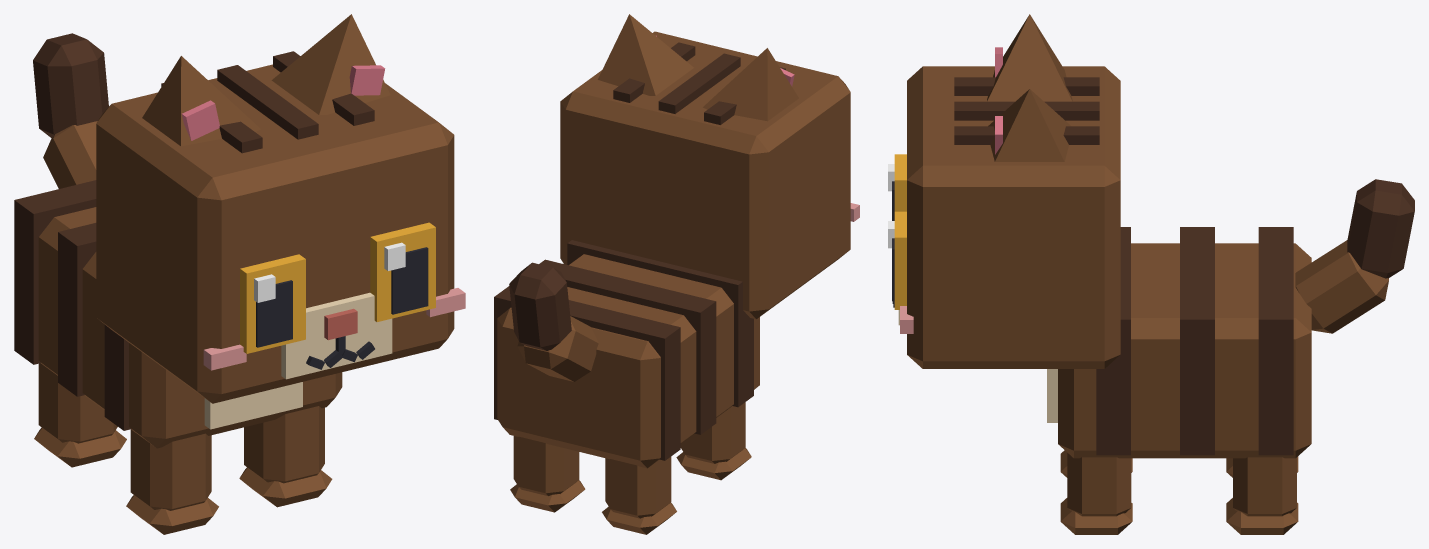
File: CatCafe_Cat_Brownie.glb
The picture shows the model from 3 angles, left to right: view 1: azimuth 30°, elevation 25°; view 2: azimuth 150°, elevation 25°; view 3: azimuth 270°, elevation 25°; orthographic projection. The views are drawn at different scales.
Parts seen in each view (by area): view 1: CatCafe_Cat_Brownie_Head, CatCafe_Cat_Brownie_Body, CatCafe_Cat_Brownie_Tail, CatCafe_Cat_Brownie_LegF2, CatCafe_Cat_Brownie_LegF1, CatCafe_Cat_Brownie_EarL, CatCafe_Cat_Brownie_Eye2, CatCafe_Cat_Brownie_Eye1, CatCafe_Cat_Brownie_LegB2, CatCafe_Cat_Brownie_EarR; view 2: CatCafe_Cat_Brownie_Head, CatCafe_Cat_Brownie_Body, CatCafe_Cat_Brownie_Tail, CatCafe_Cat_Brownie_LegB2, CatCafe_Cat_Brownie_LegB1, CatCafe_Cat_Brownie_EarL, CatCafe_Cat_Brownie_EarR, CatCafe_Cat_Brownie_LegF2; view 3: CatCafe_Cat_Brownie_Head, CatCafe_Cat_Brownie_Body, CatCafe_Cat_Brownie_Tail, CatCafe_Cat_Brownie_LegF1, CatCafe_Cat_Brownie_LegB1, CatCafe_Cat_Brownie_EarR, CatCafe_Cat_Brownie_EarL, CatCafe_Cat_Brownie_Eye1, CatCafe_Cat_Brownie_Eye2.
Part boxes in pixels (x1=…): CatCafe_Cat_Brownie_Head: x1=96, y1=51, x2=465, y2=403; CatCafe_Cat_Brownie_Body: x1=14, y1=180, x2=342, y2=448; CatCafe_Cat_Brownie_Tail: x1=33, y1=33, x2=108, y2=188; CatCafe_Cat_Brownie_LegF2: x1=126, y1=429, x2=218, y2=534; CatCafe_Cat_Brownie_LegF1: x1=239, y1=406, x2=332, y2=507; CatCafe_Cat_Brownie_EarL: x1=271, y1=14, x2=390, y2=115; CatCafe_Cat_Brownie_Eye2: x1=240, y1=254, x2=305, y2=353; CatCafe_Cat_Brownie_Eye1: x1=370, y1=222, x2=435, y2=321; CatCafe_Cat_Brownie_LegB2: x1=34, y1=363, x2=126, y2=467; CatCafe_Cat_Brownie_EarR: x1=142, y1=56, x2=260, y2=146; CatCafe_Cat_Brownie_Head: x1=560, y1=31, x2=859, y2=319; CatCafe_Cat_Brownie_Body: x1=494, y1=240, x2=759, y2=468; CatCafe_Cat_Brownie_Tail: x1=509, y1=262, x2=598, y2=381; CatCafe_Cat_Brownie_LegB2: x1=602, y1=456, x2=676, y2=534; CatCafe_Cat_Brownie_LegB1: x1=510, y1=436, x2=585, y2=512; CatCafe_Cat_Brownie_EarL: x1=597, y1=14, x2=693, y2=95; CatCafe_Cat_Brownie_EarR: x1=703, y1=48, x2=798, y2=121; CatCafe_Cat_Brownie_LegF2: x1=676, y1=402, x2=751, y2=480; CatCafe_Cat_Brownie_Head: x1=892, y1=66, x2=1120, y2=368; CatCafe_Cat_Brownie_Body: x1=1047, y1=227, x2=1311, y2=458; CatCafe_Cat_Brownie_Tail: x1=1295, y1=179, x2=1414, y2=333; CatCafe_Cat_Brownie_LegF1: x1=1060, y1=453, x2=1132, y2=534; CatCafe_Cat_Brownie_LegB1: x1=1226, y1=457, x2=1298, y2=534; CatCafe_Cat_Brownie_EarR: x1=987, y1=14, x2=1072, y2=101; CatCafe_Cat_Brownie_EarL: x1=988, y1=89, x2=1070, y2=161; CatCafe_Cat_Brownie_Eye1: x1=888, y1=211, x2=906, y2=309; CatCafe_Cat_Brownie_Eye2: x1=888, y1=154, x2=906, y2=220.
Size of the model in its own units: 1 by 1.86 by 1.97.
1 material, 1 textured.
